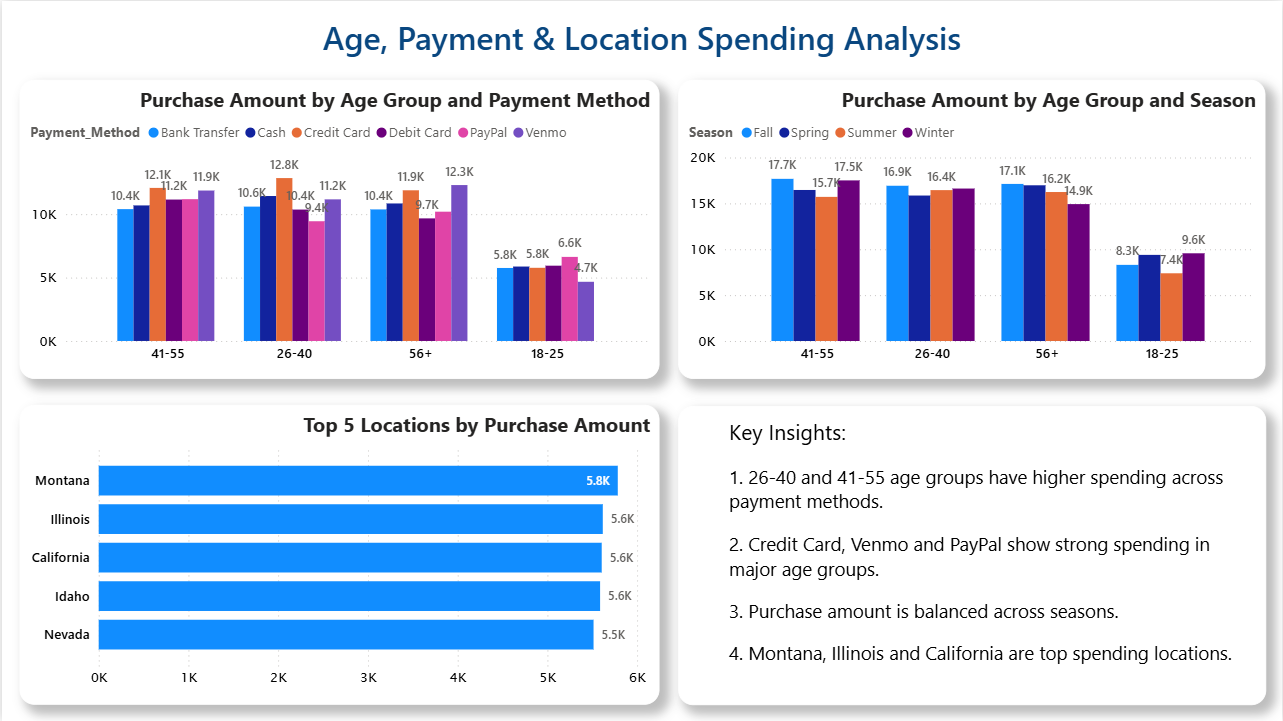

This screenshot's page, from the dashboard's own definition file:
{"tool":"powerbi","page":{"name":"Age & Payment Analysis","canvas":[1280,720],"ordinal":2},"visuals":[{"type":"textbox","box":[336.8,21.1,606.6,53.4],"z":0},{"type":"clusteredColumnChart","title":"Purchase Amount by Age Group and Payment Method","fields":{"Category":["shopping_table.Age Group"],"Y":["Sum(shopping_table.Purchase_Amount_USD)"],"Series":["shopping_table.Payment_Method"]},"box":[17.4,91.7,640.1,299.6],"z":1000},{"type":"clusteredColumnChart","title":"Purchase Amount by Age Group and Season","fields":{"Category":["shopping_table.Age Group"],"Y":["Sum(shopping_table.Purchase_Amount_USD)"],"Series":["shopping_table.Season"]},"box":[676.2,91.7,587,299.6],"z":2000},{"type":"clusteredBarChart","title":"Top 5 Locations by Purchase Amount","fields":{"Category":["shopping_table.Location"],"Y":["Sum(shopping_table.Purchase_Amount_USD)"]},"box":[17,405,640,300],"z":3000},{"type":"textbox","box":[676.2,405.2,587.9,299.6],"z":4000}]}

Visuals, with their boxes in screenshot pixels (x1, y1, x2, y2), scaled from the page's 1280x720 canvas onto the 1283x721 screenshot:
textbox: 338/21/946/75
"Purchase Amount by Age Group and Payment Method" clusteredColumnChart: 17/92/659/392
"Purchase Amount by Age Group and Season" clusteredColumnChart: 678/92/1266/392
"Top 5 Locations by Purchase Amount" clusteredBarChart: 17/406/659/706
textbox: 678/406/1267/706
